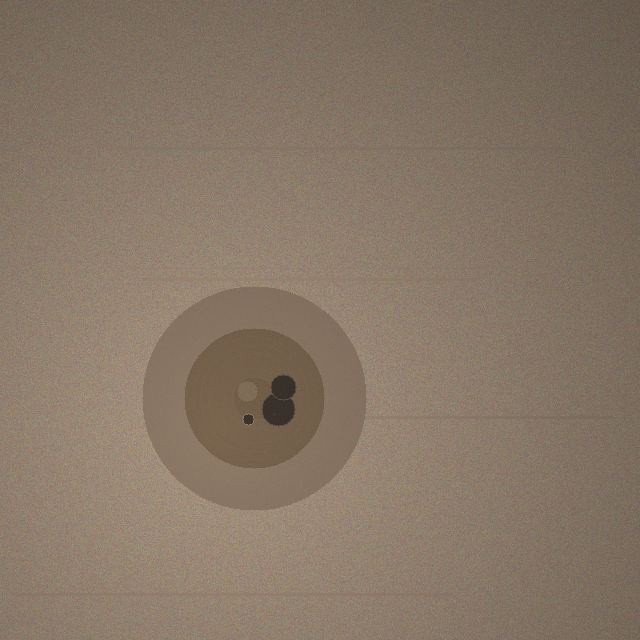shrinkage: (142, 286, 366, 510)
